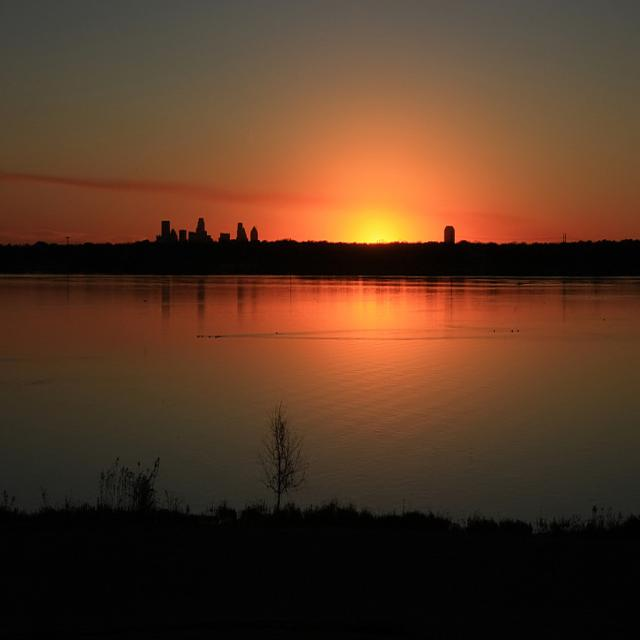no_fire: (66, 153, 580, 341)
